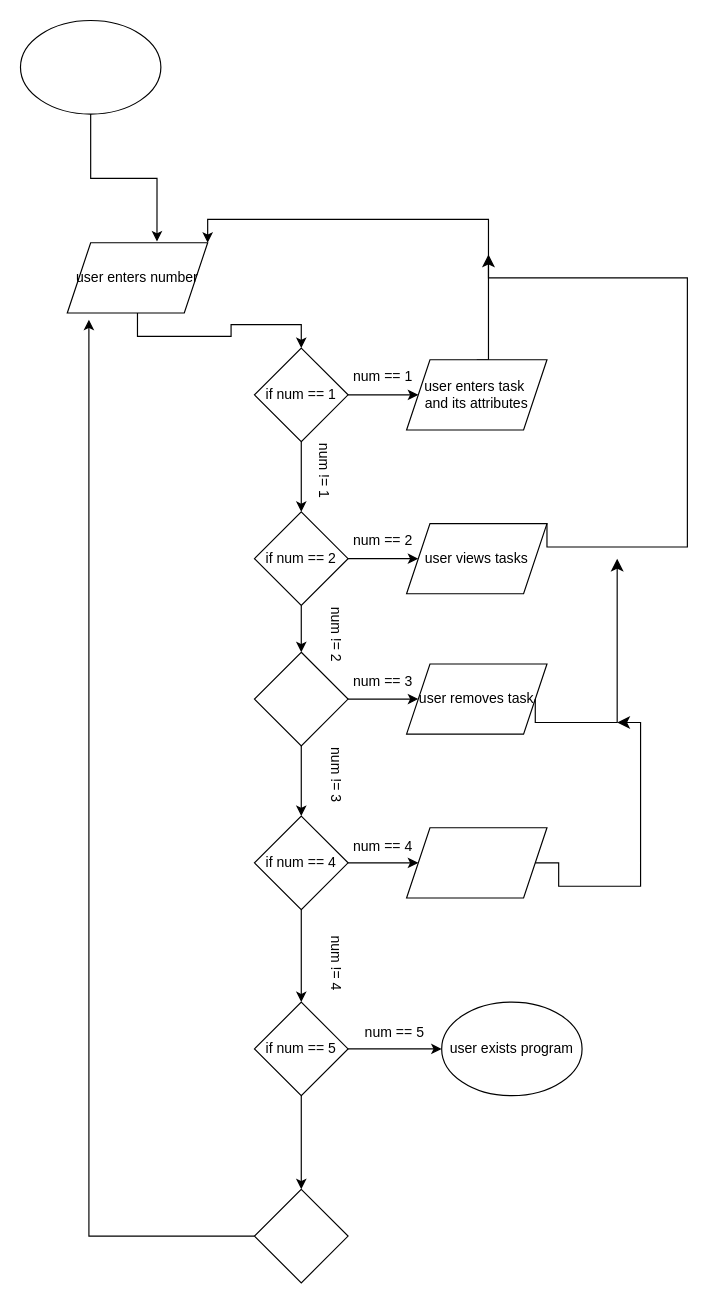
Some shapes in this 720 by 1303 pixel diagram are drawn without their labels. Each missing label, with the box of its shape:
if num == 3: (253, 651, 348, 746)
if num == invalid: (253, 1188, 348, 1283)
Start: (19, 19, 161, 114)
user updates task: (405, 827, 547, 898)
